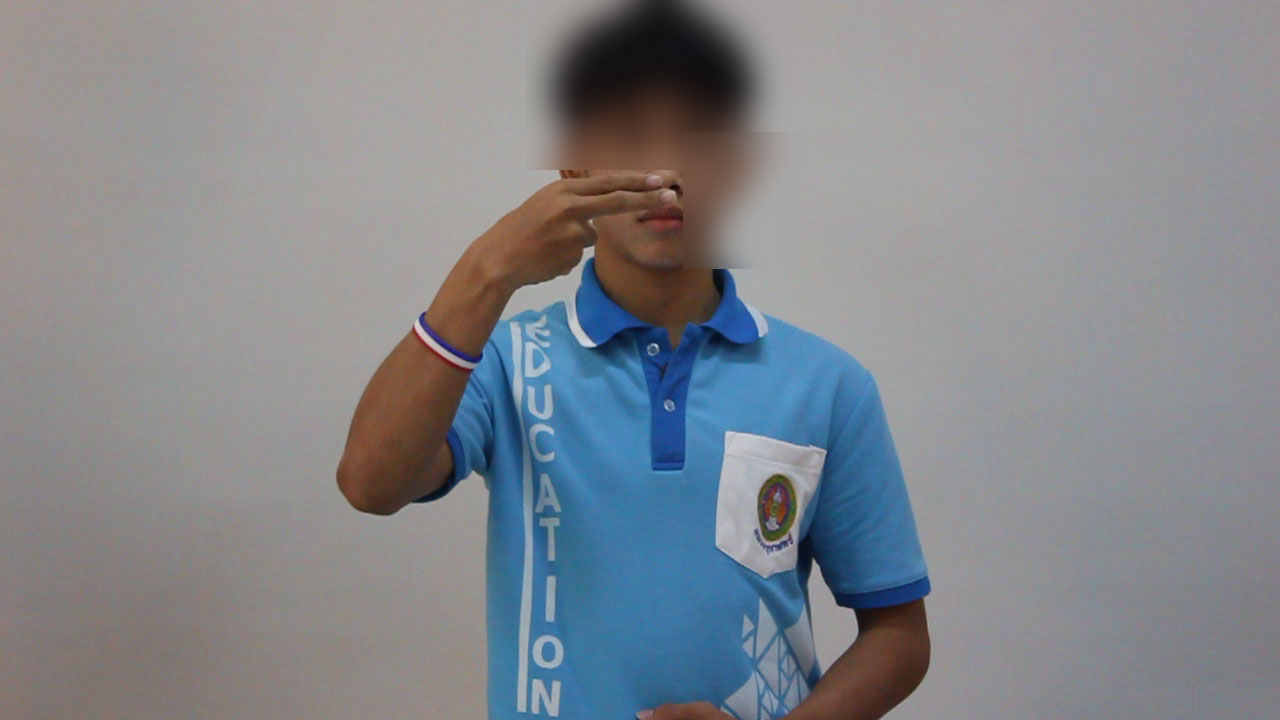hor: (473, 164, 691, 290)
